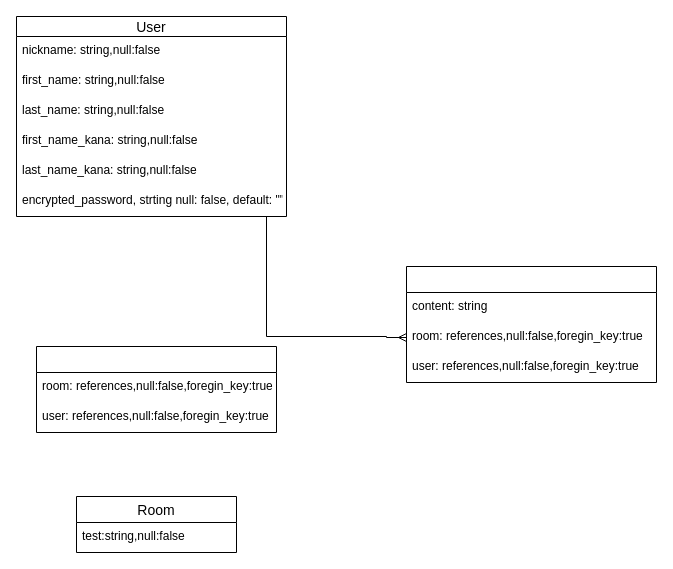
Image size: 673x569. Some labels were removed from this diagram. Here are the shapes that lost their labels. From the top down, the box of each, then its label:
(406, 266, 656, 382): Memo
(36, 346, 276, 432): Room_User
